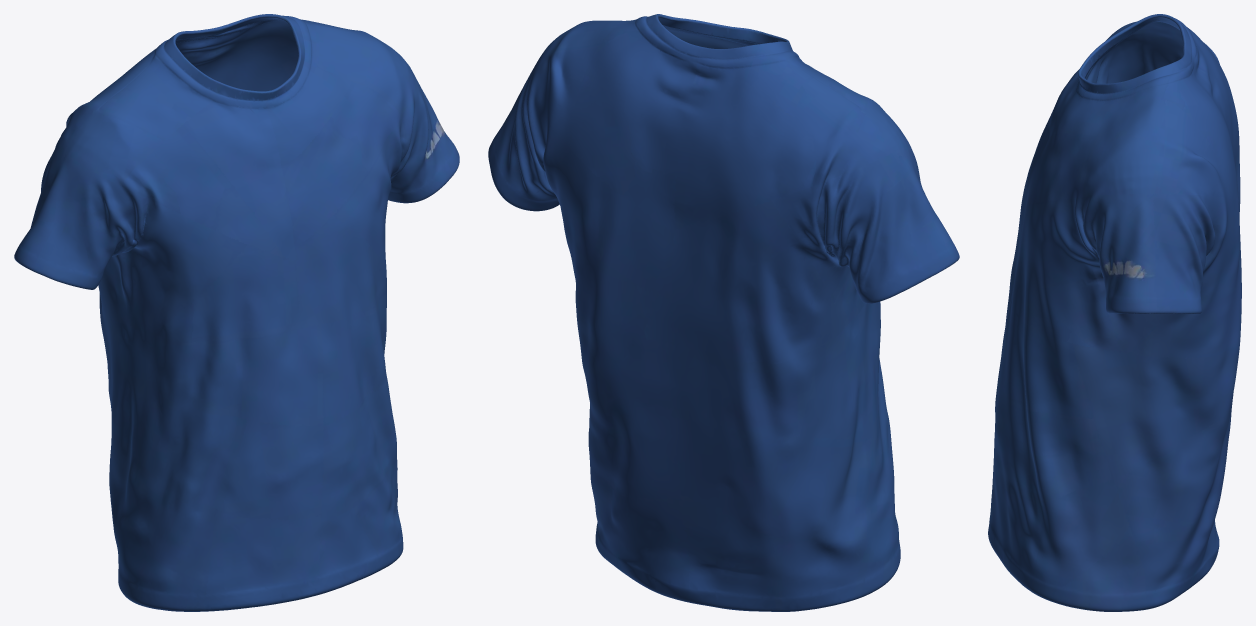
3 views of the same model, side by side, from view 1: azimuth 30°, elevation 25°; view 2: azimuth 150°, elevation 25°; view 3: azimuth 270°, elevation 25° (orthographic). The views are drawn at different scales.
Parts seen in each view (by area): view 1: mesh_node; view 2: mesh_node; view 3: mesh_node.
Boxes of the visible parts, x1,y1,x2,y2 form: mesh_node: (14, 14, 459, 611); mesh_node: (488, 14, 959, 611); mesh_node: (988, 14, 1241, 611).
Size of the model in its own units: 1.66 by 1.9 by 0.8476.
Materials: 1 (1 with a texture image).
